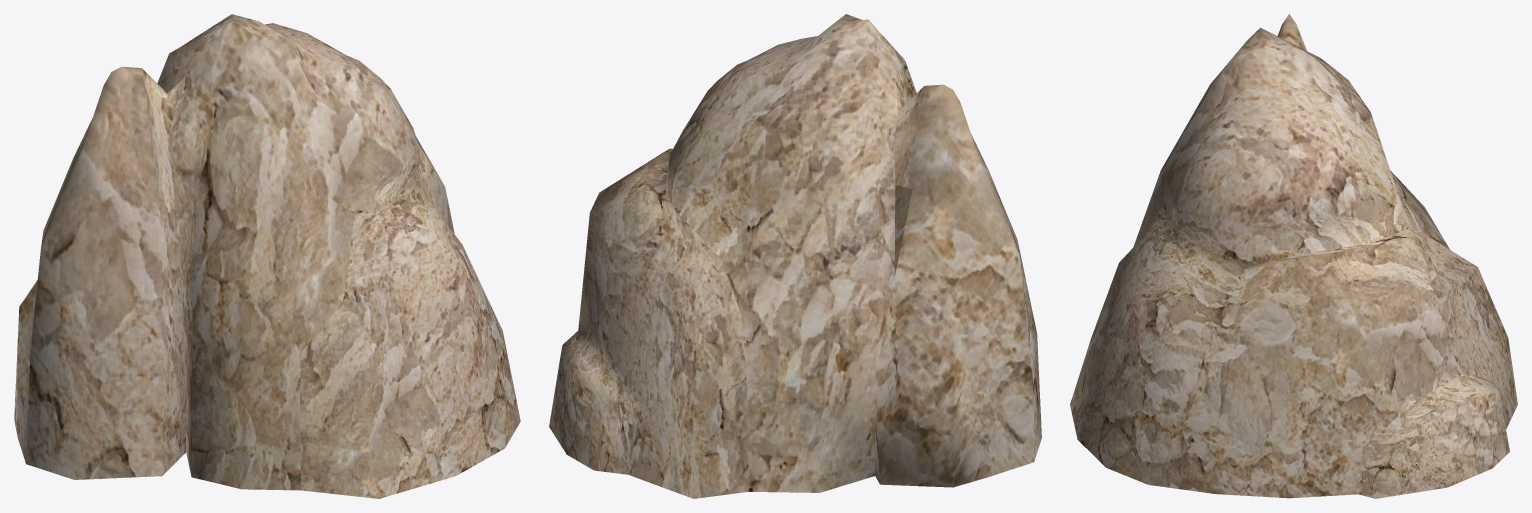
Rendered from roca.obj.
3 renders of one model, left to right at view 1: azimuth 30°, elevation 25°; view 2: azimuth 150°, elevation 25°; view 3: azimuth 270°, elevation 25°, orthographic. The views are drawn at different scales.
Parts seen in each view (by area): view 1: Rock:farm_item_03ModelRootLocatorfarm_item_03FBXASC047farm_item_; view 2: Rock:farm_item_03ModelRootLocatorfarm_item_03FBXASC047farm_item_; view 3: Rock:farm_item_03ModelRootLocatorfarm_item_03FBXASC047farm_item_.
Part boxes in pixels (x1,y1,x2,y2): Rock:farm_item_03ModelRootLocatorfarm_item_03FBXASC047farm_item_: [14, 14, 520, 498]; Rock:farm_item_03ModelRootLocatorfarm_item_03FBXASC047farm_item_: [549, 14, 1041, 498]; Rock:farm_item_03ModelRootLocatorfarm_item_03FBXASC047farm_item_: [1070, 14, 1517, 498].
Bounding box in the file's own units: 9.92 × 8.63 × 9.72.
1 material, 1 textured.
